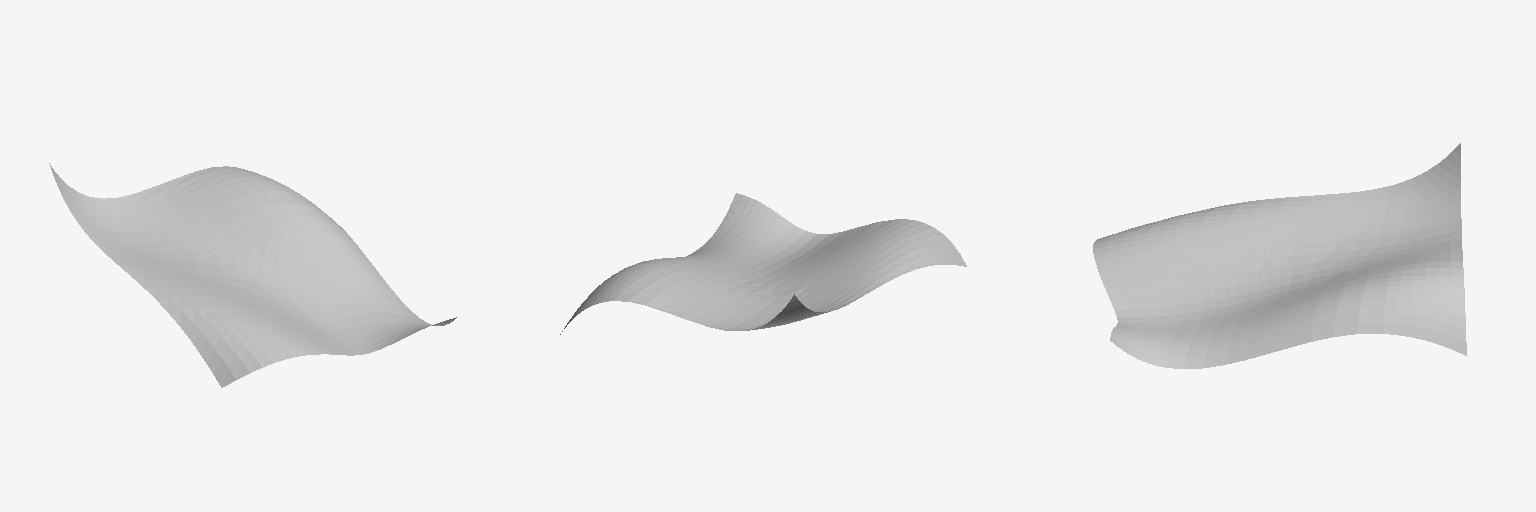
The model's file is TestMesh.obj.
3 views of the same model, side by side, from view 1: azimuth 30°, elevation 25°; view 2: azimuth 150°, elevation 25°; view 3: azimuth 270°, elevation 25° (orthographic).
Visible parts, largest first — view 1: object_1; view 2: object_1; view 3: object_1.
Part boxes in pixels (left/top/right/bottom): object_1: left=49, top=163, right=456, bottom=387; object_1: left=560, top=193, right=966, bottom=334; object_1: left=1093, top=143, right=1466, bottom=368.
Size of the model in its own units: 28.9 by 13.32 by 40.01.